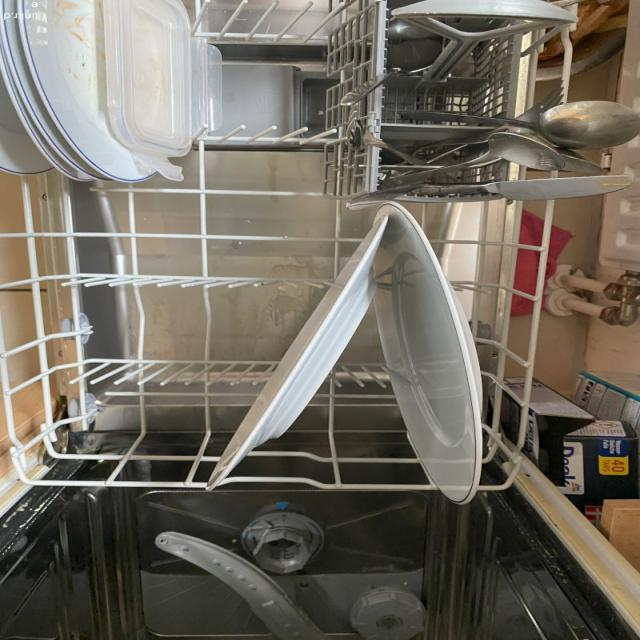clutery_bin: (355, 0, 597, 218)
empty_slot: (44, 180, 222, 454), (208, 10, 331, 158)
